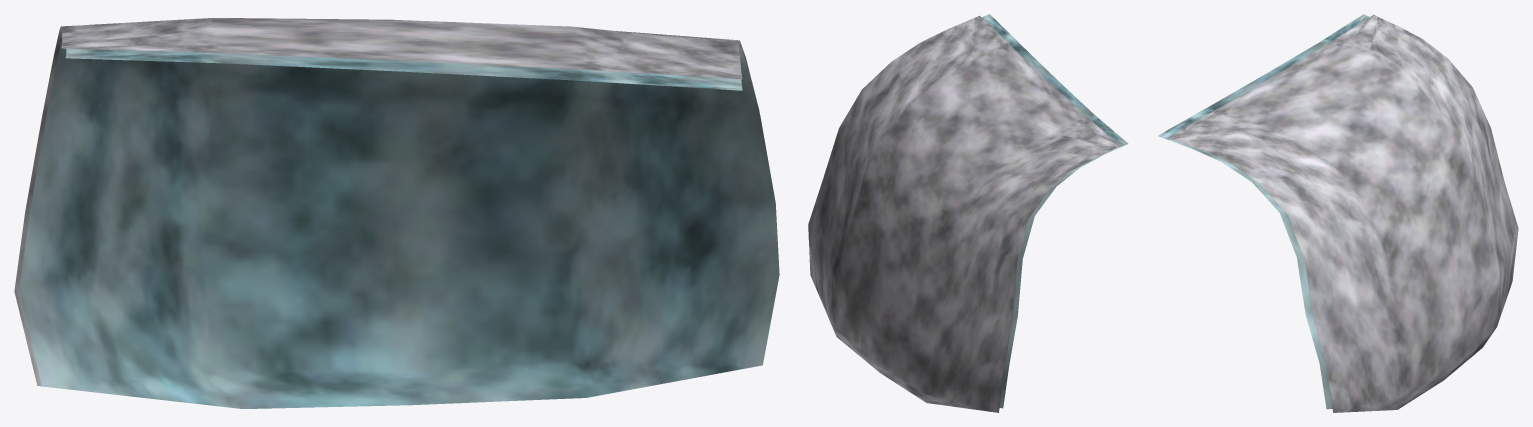
File: CB_NEWPLAYSURFACE_CB_WATERFALLS15.fbx
3 views of the same model, side by side, from view 1: azimuth 30°, elevation 25°; view 2: azimuth 150°, elevation 25°; view 3: azimuth 270°, elevation 25° (orthographic). The views are drawn at different scales.
Visible parts, largest first — view 1: CB_NEWPLAYSURFACE_CB_WATERFALLS15; view 2: CB_NEWPLAYSURFACE_CB_WATERFALLS15; view 3: CB_NEWPLAYSURFACE_CB_WATERFALLS15.
Boxes of the visible parts, x1,y1,x2,y2 form: CB_NEWPLAYSURFACE_CB_WATERFALLS15: (14, 18, 779, 408); CB_NEWPLAYSURFACE_CB_WATERFALLS15: (808, 14, 1128, 412); CB_NEWPLAYSURFACE_CB_WATERFALLS15: (1158, 14, 1518, 412).
Bounding box in the file's own units: 82770 × 59127 × 73973.
Materials: 2 (2 with a texture image).
